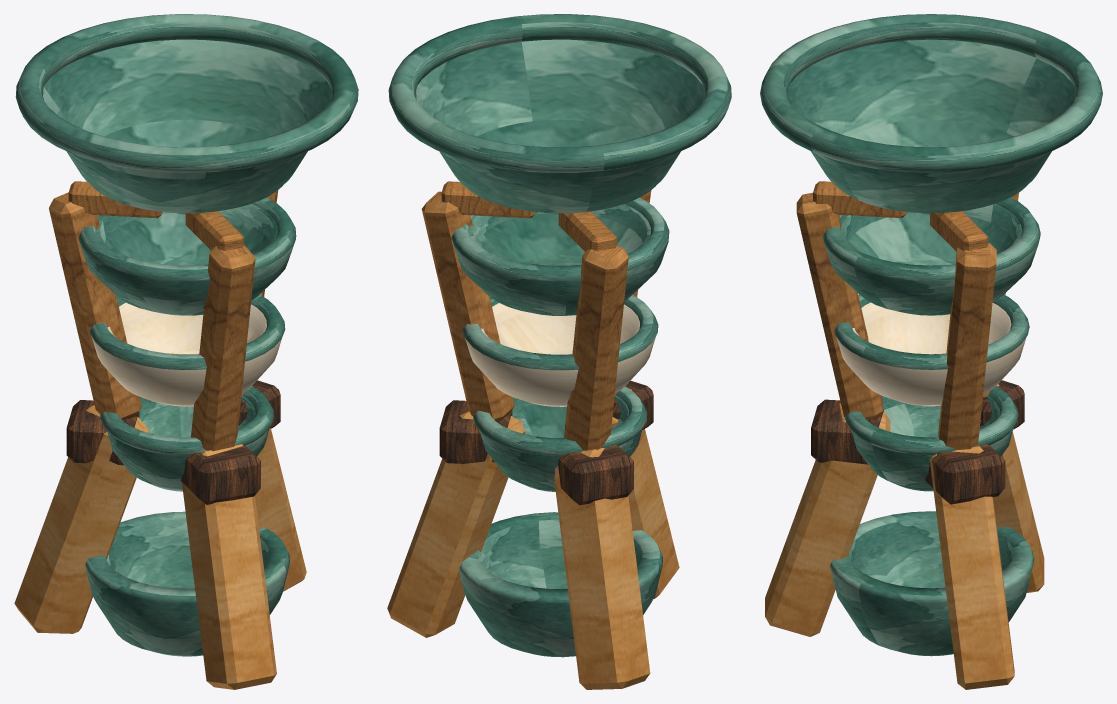
File: revised-01-04.glb
3 views of the same model, side by side, from view 1: azimuth 30°, elevation 25°; view 2: azimuth 150°, elevation 25°; view 3: azimuth 270°, elevation 25° (orthographic).
Visible parts, largest first — view 1: rain_tower; view 2: rain_tower; view 3: rain_tower.
Part boxes in pixels (box(x1,y1,x2,y2)): rain_tower: box(14, 14, 358, 689); rain_tower: box(387, 14, 731, 689); rain_tower: box(760, 14, 1102, 689).
Bounding box in the file's own units: 1.13 × 2.03 × 1.13.
1 material, 1 textured.
